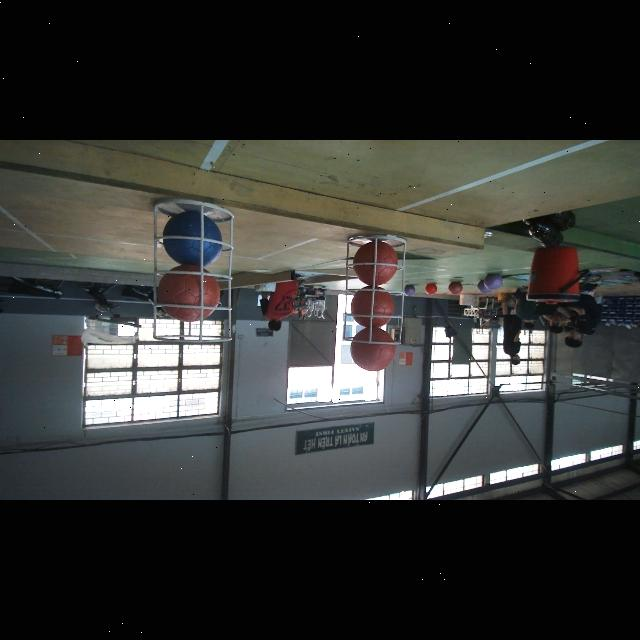B: (163, 210, 221, 266)
R: (157, 266, 221, 324), (350, 328, 396, 372), (354, 241, 398, 285), (351, 285, 395, 329)
